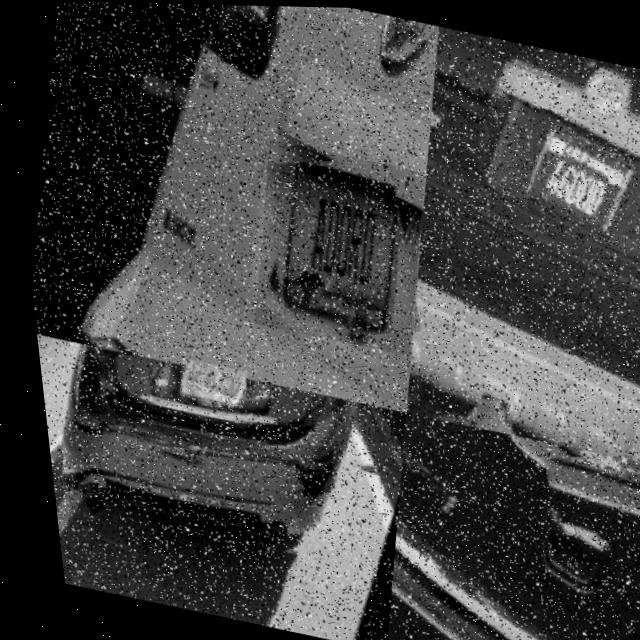LicensePlate: (231, 138, 437, 355), (513, 106, 640, 234), (522, 434, 640, 549), (171, 360, 238, 407)
